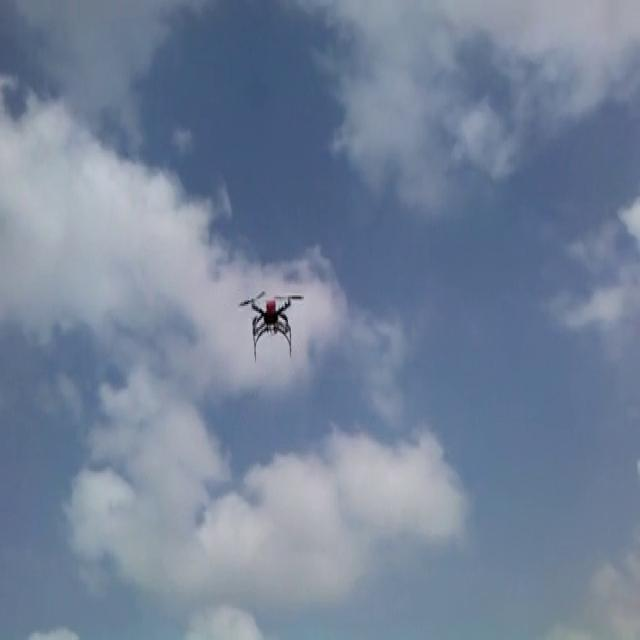drone: (236, 286, 304, 359)
